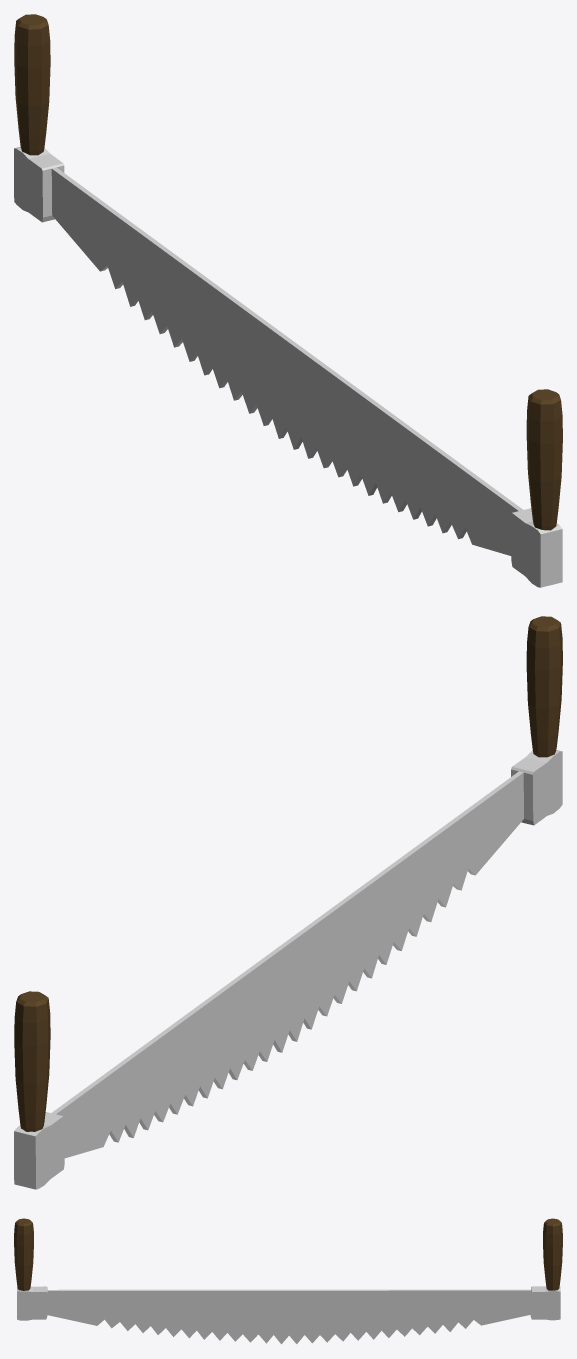
File: saw-bandsaw.glb
3 renders of one model, top to bottom at view 1: azimuth 30°, elevation 25°; view 2: azimuth 150°, elevation 25°; view 3: azimuth 270°, elevation 25°, orthographic. The views are drawn at different scales.
Parts seen in each view (by area): view 1: saw_bandsaw; view 2: saw_bandsaw; view 3: saw_bandsaw.
Part boxes in pixels (x1,y1,x2,y2): saw_bandsaw: [14, 14, 562, 587]; saw_bandsaw: [14, 616, 562, 1189]; saw_bandsaw: [14, 1218, 562, 1344].
Bounding box in the file's own units: 1.11 × 7.87 × 31.99.
